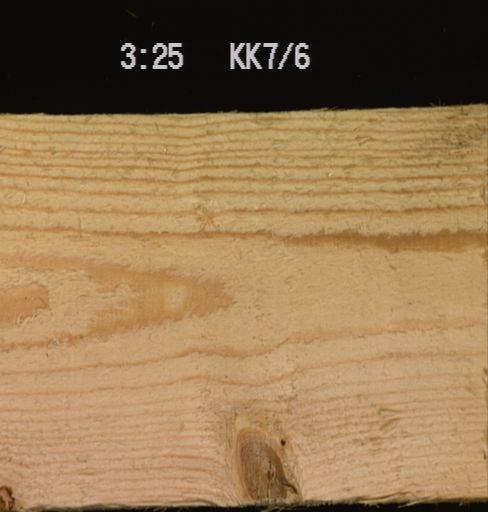edge_knot: (233, 430, 285, 504), (0, 481, 14, 511)
